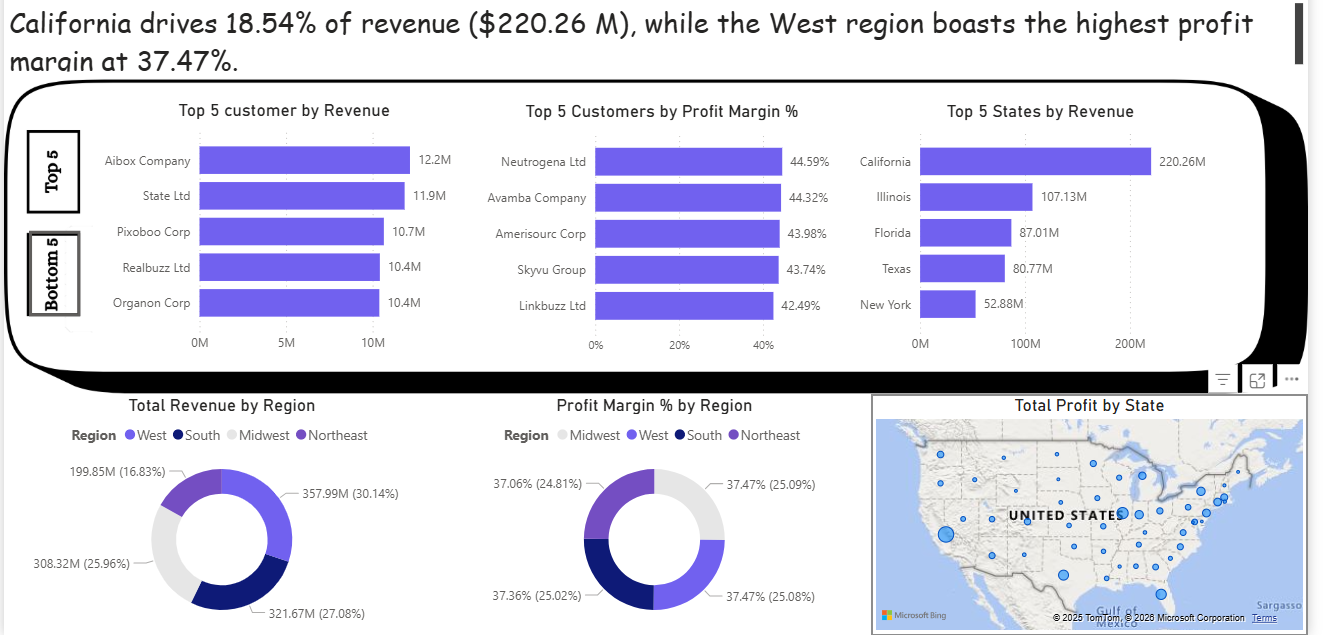

Layout of this report page (visuals, bound fields, positions):
{"tool":"powerbi","page":{"name":"Geographic & Customer Insights","canvas":[1280,720],"ordinal":3},"visuals":[{"type":"actionButton","title":"Top Button","box":[24,225.3,49.3,82.7],"z":4},{"type":"barChart","title":"Bottom 5 Customers by Revenue","fields":{"Category":["Sales_data(EDA Exported).customer_name"],"Y":["Custom Measures.Total_Revenue"]},"box":[86.7,193.3,376,257.3],"z":5},{"type":"barChart","title":"Bottom 5 by Profit Margin % ","fields":{"Category":["Sales_data(EDA Exported).customer_name"],"Y":["Custom Measures.Profit Margin %"]},"box":[462.7,193.3,376,257.3],"z":6},{"type":"barChart","title":"Bottom 5 States by Revenue","fields":{"Category":["Sales_data(EDA Exported).state_name"],"Y":["Custom Measures.Total_Revenue"]},"box":[838.7,193.3,370.7,257.3],"z":7},{"type":"donutChart","title":"Total Revenue by Region","fields":{"Category":["Sales_data(EDA Exported).region"],"Y":["Customer Measures.Total Revenue"]},"box":[0,484,428,236],"z":9},{"type":"donutChart","title":"Profit Margin % by Region","fields":{"Y":["Custom Measures.Profit Margin %"],"Category":["Sales_data(EDA Exported).region"]},"box":[424,484,428,236],"z":10},{"type":"map","title":"Total Profit by State","fields":{"Category":["Sales_data(EDA Exported).state_name"],"Size":["Custom Measures.Total Profit"]},"box":[852,484,428,236],"z":11},{"type":"textbox","title":"Bottom 5 Text box","box":[0,94.7,1280,77.3],"z":12}]}

Visuals, with their boxes on the page's 1280x720 design canvas (x1, y1, x2, y2). These are canvas units, not pixel positions in the 1330x635 screenshot, which may show the page scaled, cropped or inside an application window:
"Top Button" actionButton: x1=24, y1=225, x2=73, y2=308
"Bottom 5 Customers by Revenue" barChart: x1=87, y1=193, x2=463, y2=451
"Bottom 5 by Profit Margin % " barChart: x1=463, y1=193, x2=839, y2=451
"Bottom 5 States by Revenue" barChart: x1=839, y1=193, x2=1209, y2=451
"Total Revenue by Region" donutChart: x1=0, y1=484, x2=428, y2=720
"Profit Margin % by Region" donutChart: x1=424, y1=484, x2=852, y2=720
"Total Profit by State" map: x1=852, y1=484, x2=1280, y2=720
"Bottom 5 Text box" textbox: x1=0, y1=95, x2=1280, y2=172
